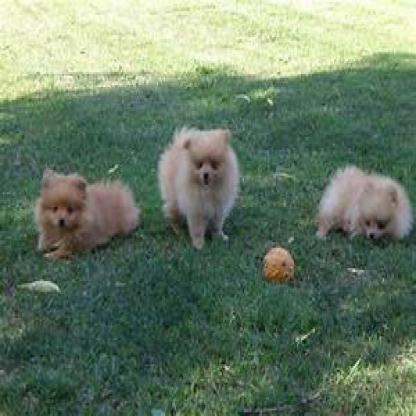dog: (158, 120, 241, 252), (32, 164, 140, 262), (316, 163, 415, 244)
